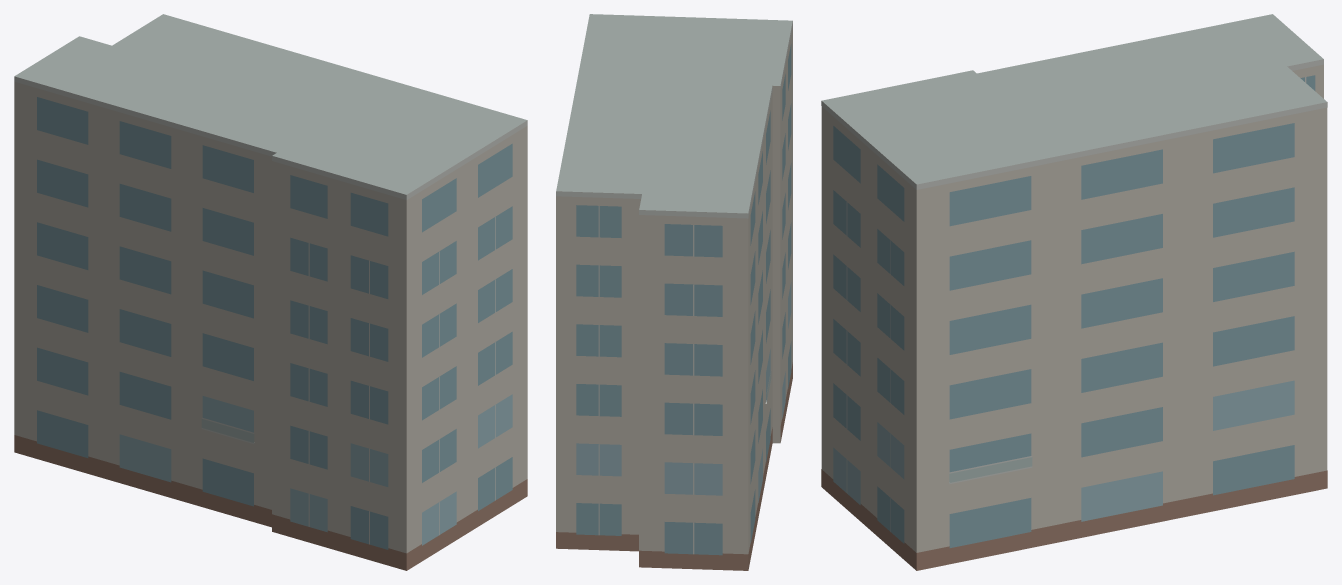
Rendered from survey-upis-32697971.glb.
3 renders of one model, left to right at view 1: azimuth 30°, elevation 25°; view 2: azimuth 150°, elevation 25°; view 3: azimuth 270°, elevation 25°, orthographic. The views are drawn at different scales.
Parts seen in each view (by area): view 1: survey-upis-32697971.tmp; view 2: survey-upis-32697971.tmp; view 3: survey-upis-32697971.tmp.
Boxes of the visible parts, left/top/right/bottom form: survey-upis-32697971.tmp: left=14, top=14, right=527, bottom=570; survey-upis-32697971.tmp: left=556, top=14, right=792, bottom=570; survey-upis-32697971.tmp: left=821, top=14, right=1327, bottom=570.
Size of the model in its own units: 16.39 by 17.3 by 20.54.
